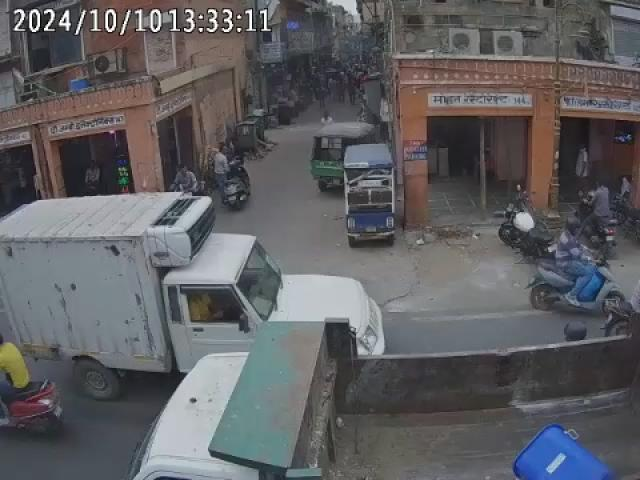auto: (340, 142, 396, 246), (312, 122, 384, 194)
helmet: (566, 217, 580, 234)
lorry: (0, 192, 384, 374)
motorbike: (497, 196, 553, 258)
motorbike-rider: (170, 162, 198, 194)
no_helmet: (594, 177, 604, 188)
person: (320, 109, 333, 126)
scooty-rider: (528, 216, 624, 316), (0, 333, 62, 438), (580, 178, 620, 253), (210, 146, 252, 210)
